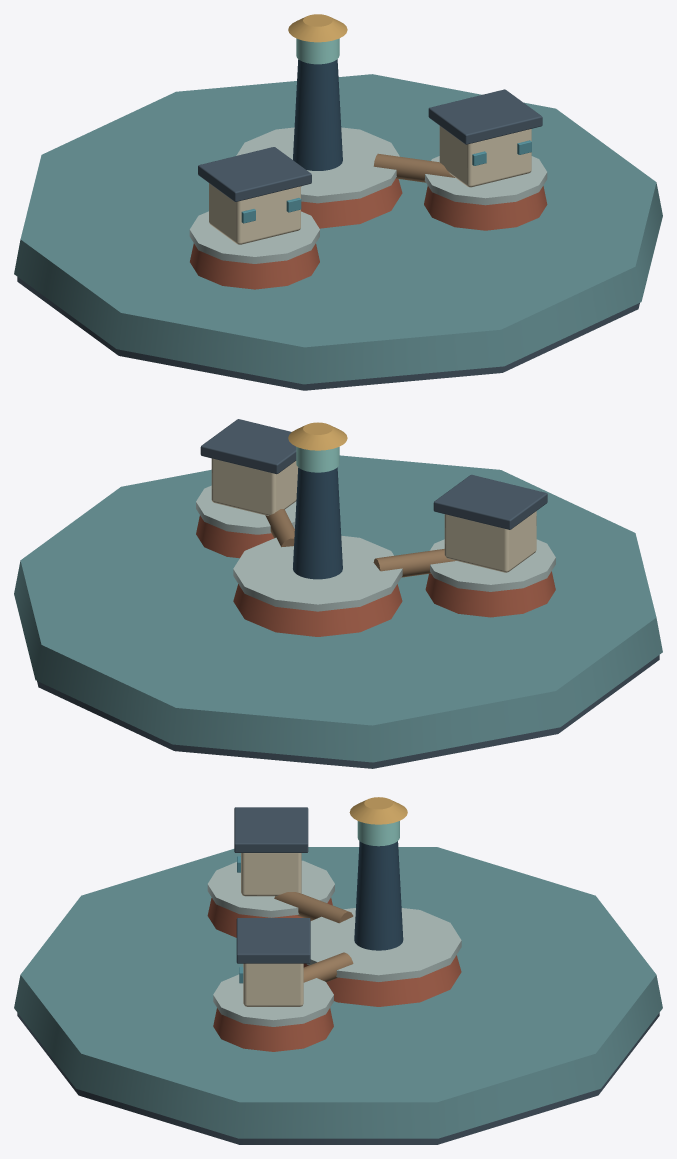
Rendered from lanternshoal.glb.
The picture shows the model from 3 angles, top to bottom: view 1: azimuth 30°, elevation 25°; view 2: azimuth 150°, elevation 25°; view 3: azimuth 270°, elevation 25°; orthographic projection. The views are drawn at different scales.
Parts seen in each view (by area): view 1: Terrain cutaway, Pontoon deck (×3), Buoyant hull (×3), Roof slab (×2), Habitat pressure shell (×2), Beacon tower, Substrate, Pontoon bridge, Beacon cap, Fresnel lantern; view 2: Terrain cutaway, Pontoon deck (×3), Buoyant hull (×3), Habitat pressure shell (×2), Roof slab (×2), Beacon tower, Substrate, Pontoon bridge (×2), Beacon cap, Fresnel lantern; view 3: Terrain cutaway, Pontoon deck (×3), Buoyant hull (×3), Roof slab (×2), Habitat pressure shell (×2), Beacon tower, Substrate, Pontoon bridge (×2), Beacon cap, Fresnel lantern.
Part boxes in pixels (bbox=[...]): Terrain cutaway: bbox=[14, 74, 662, 384]; Pontoon deck (×3): bbox=[189, 127, 547, 263]; Buoyant hull (×3): bbox=[190, 178, 547, 289]; Roof slab (×2): bbox=[198, 89, 542, 201]; Habitat pressure shell (×2): bbox=[209, 126, 531, 244]; Beacon tower: bbox=[293, 59, 342, 170]; Substrate: bbox=[17, 277, 639, 390]; Pontoon bridge: bbox=[373, 153, 454, 182]; Beacon cap: bbox=[288, 14, 347, 42]; Fresnel lantern: bbox=[296, 38, 339, 64]; Terrain cutaway: bbox=[14, 455, 662, 762]; Pontoon deck (×3): bbox=[196, 485, 555, 611]; Buoyant hull (×3): bbox=[196, 515, 555, 636]; Habitat pressure shell (×2): bbox=[211, 458, 536, 572]; Roof slab (×2): bbox=[200, 419, 547, 529]; Beacon tower: bbox=[293, 467, 342, 579]; Substrate: bbox=[37, 655, 659, 768]; Pontoon bridge (×2): bbox=[265, 509, 455, 577]; Beacon cap: bbox=[288, 422, 347, 450]; Fresnel lantern: bbox=[296, 447, 339, 472]; Terrain cutaway: bbox=[14, 847, 662, 1138]; Pontoon deck (×3): bbox=[207, 860, 461, 1026]; Buoyant hull (×3): bbox=[207, 898, 461, 1051]; Roof slab (×2): bbox=[234, 807, 310, 963]; Habitat pressure shell (×2): bbox=[241, 853, 303, 1006]; Beacon tower: bbox=[354, 841, 403, 950]; Substrate: bbox=[17, 1013, 659, 1144]; Pontoon bridge (×2): bbox=[274, 892, 353, 982]; Beacon cap: bbox=[349, 797, 407, 824]; Fresnel lantern: bbox=[357, 821, 399, 846].
Bounding box in the file's own units: 5.52 × 2.1 × 5.8.
